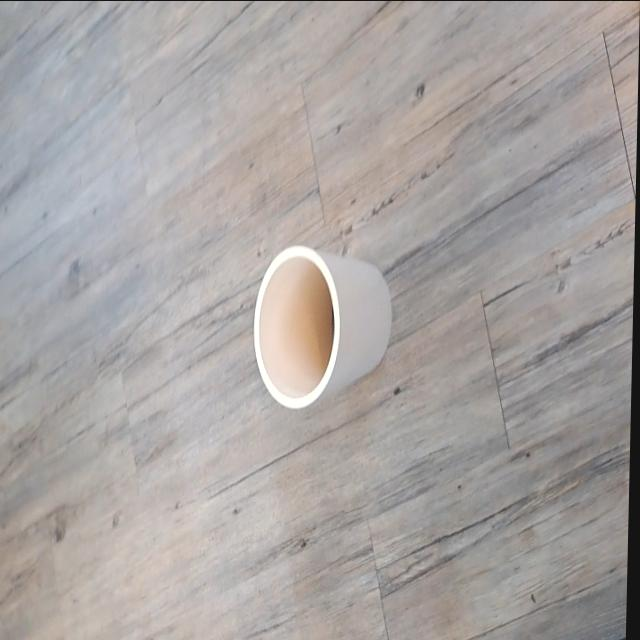CORAL: (230, 224, 403, 432)
